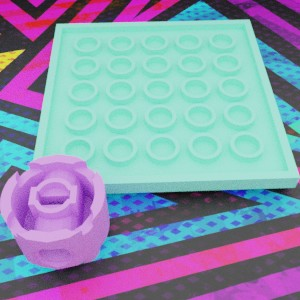lego: (28, 19, 299, 196), (0, 154, 109, 269)
